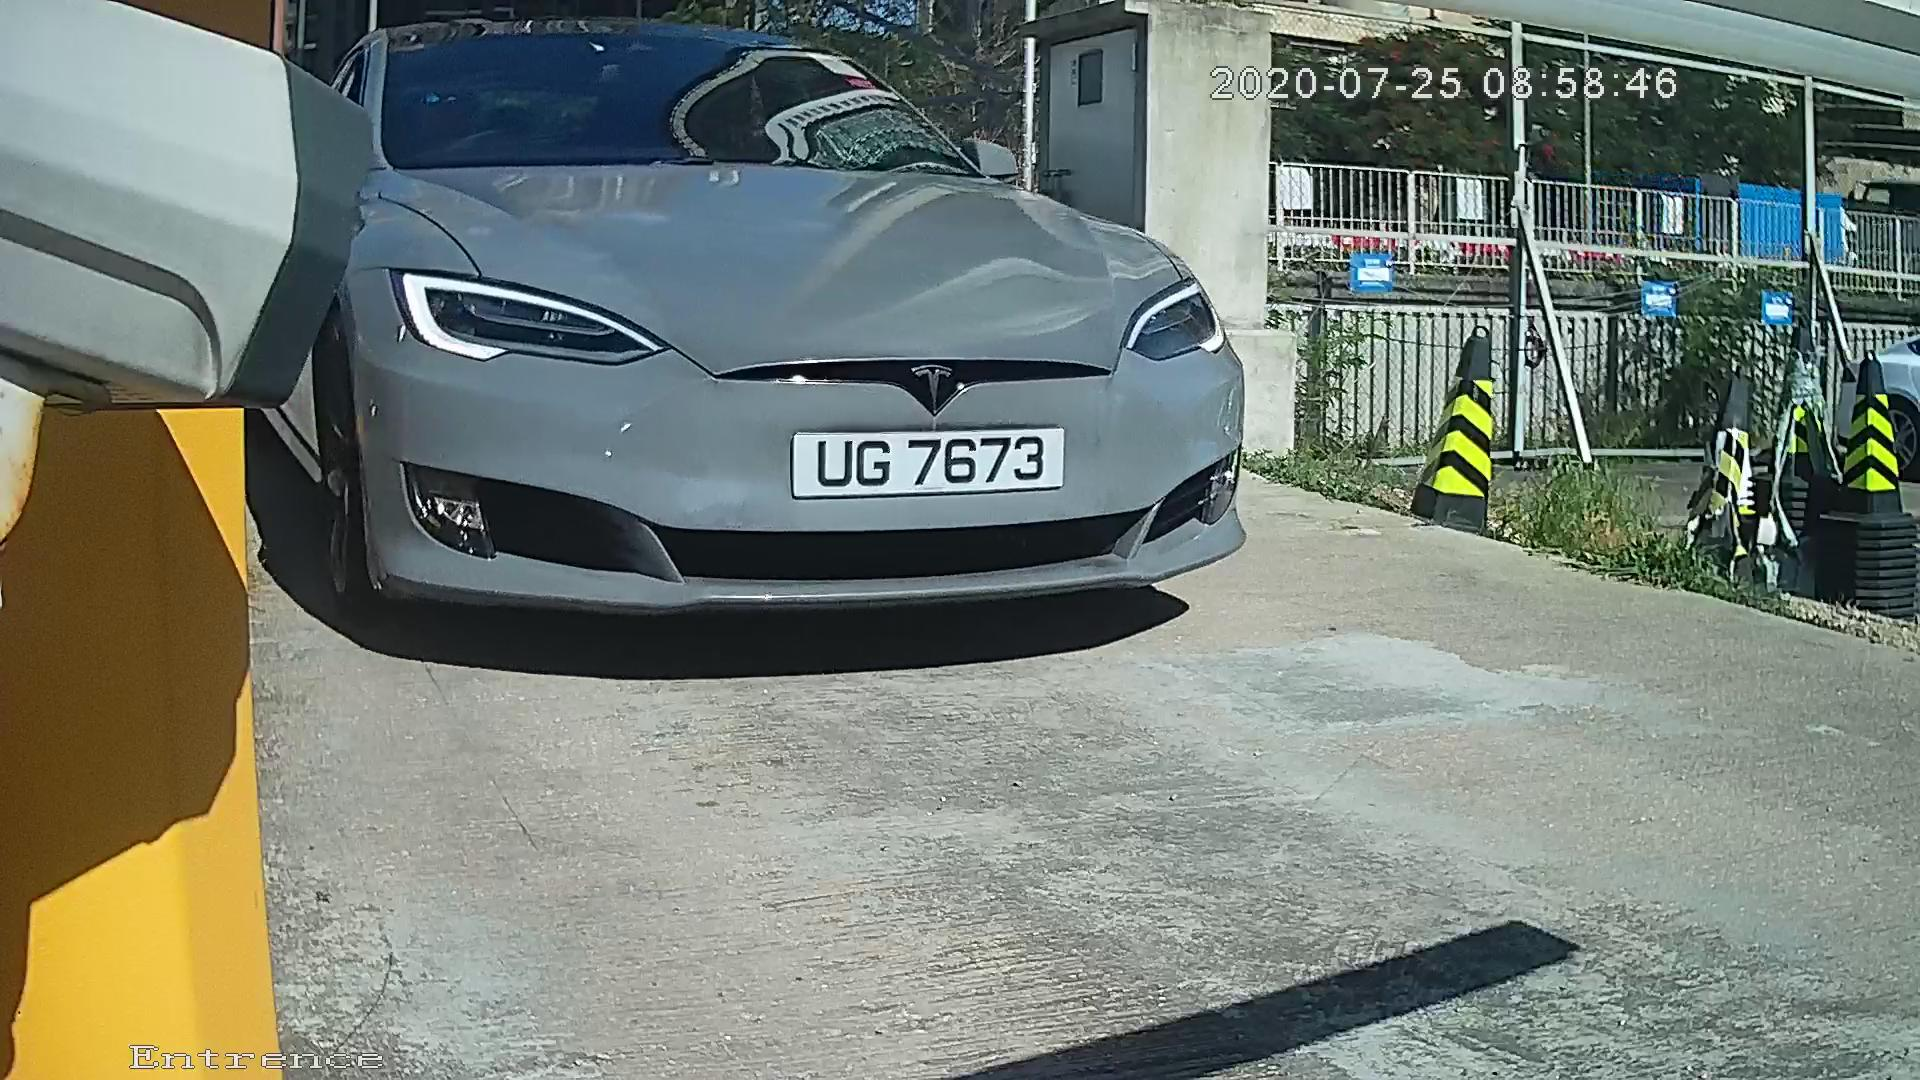License Plate: (763, 420, 1089, 507)
